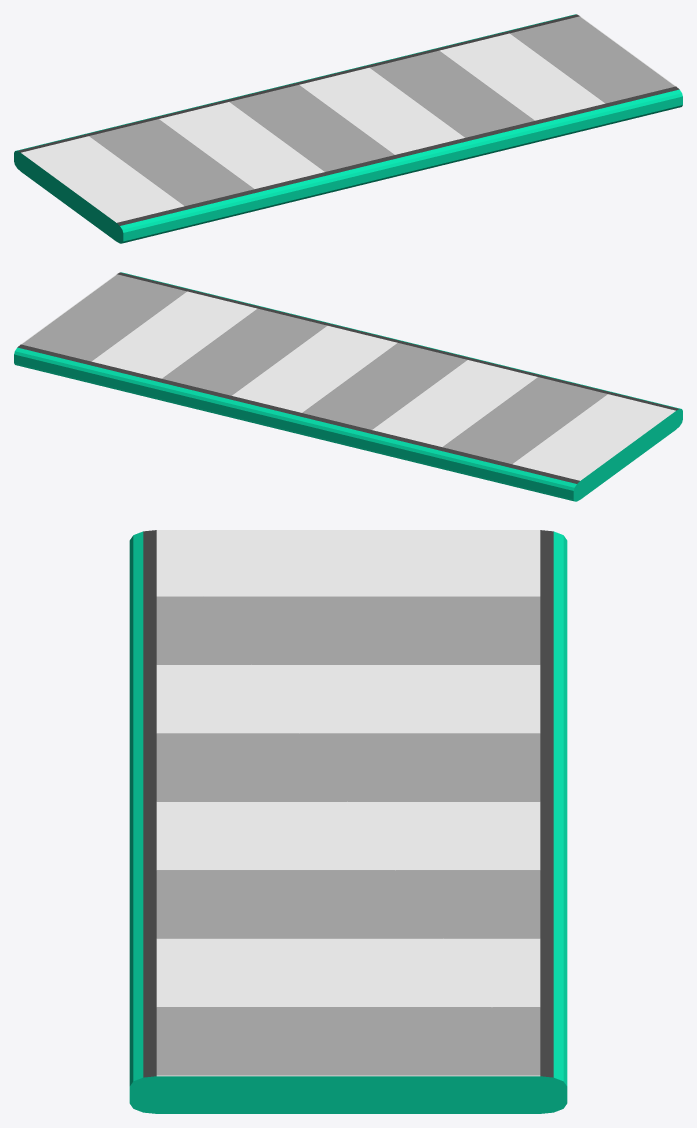
Rendered from band.fbx.
The picture shows the model from 3 angles, top to bottom: view 1: azimuth 30°, elevation 25°; view 2: azimuth 150°, elevation 25°; view 3: azimuth 270°, elevation 25°; orthographic projection. The views are drawn at different scales.
Parts seen in each view (by area): view 1: Cube; view 2: Cube; view 3: Cube.
Boxes of the visible parts, x1,y1,x2,y2 form: Cube: [14, 14, 682, 243]; Cube: [14, 272, 682, 501]; Cube: [129, 530, 567, 1113].
Bounding box in the file's own units: 452 × 14.57 × 153.
